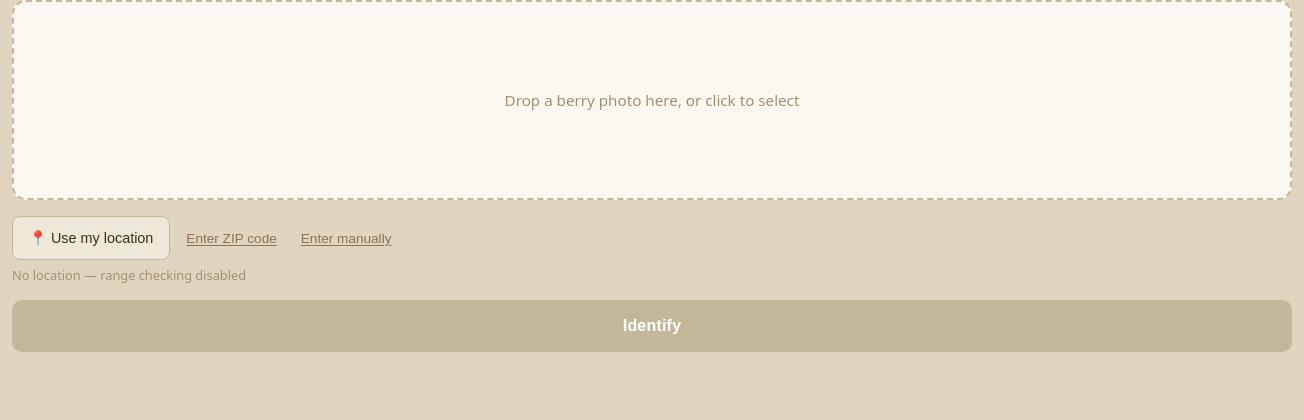
manual entry toggle › hides manual inputs when toggled again
The width and height of the screenshot is (1304, 420).
Click the button "Enter manually". click: point(346, 238)
box: [293,216,400,260]
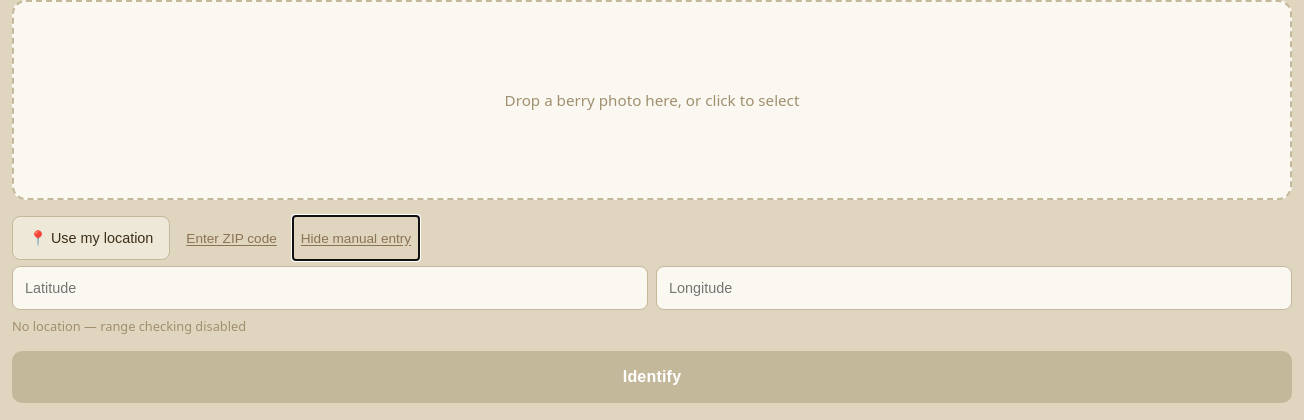
Click the button "Hide manual entry". click: point(356, 238)
box: [293,216,419,260]
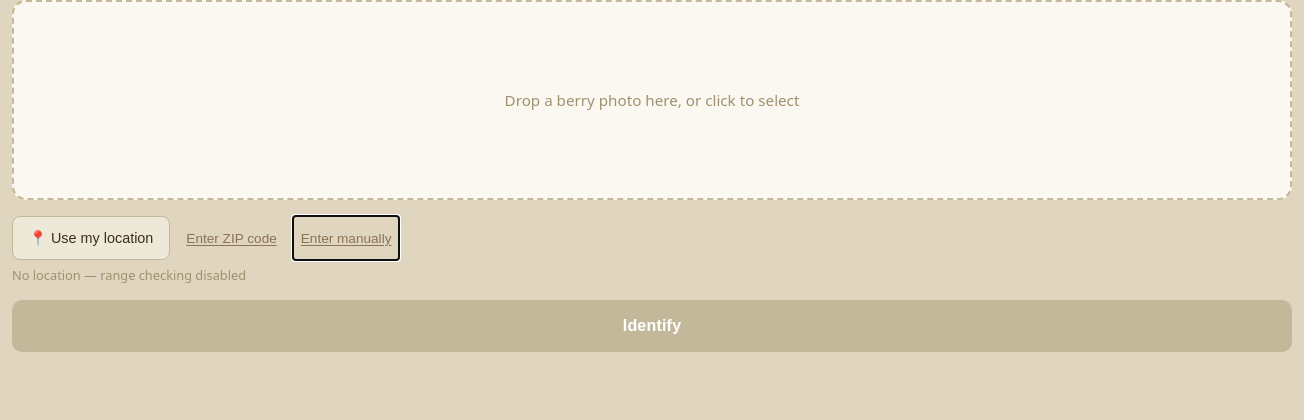
Now the field with placeholder "latitude" is gone
